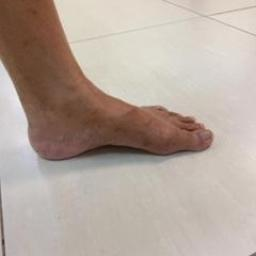Medial View -Left Foot-: (8, 58, 230, 176)
